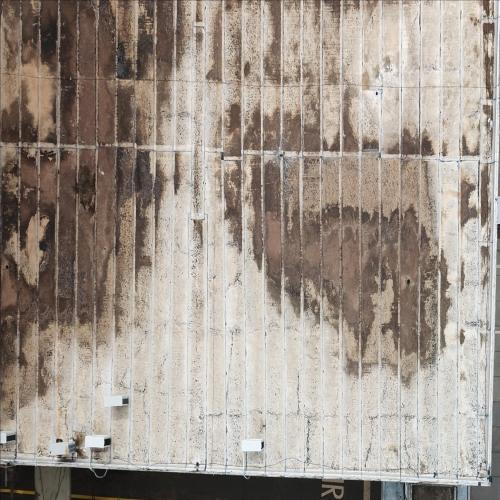conde: (103, 394, 132, 413), (84, 435, 115, 452), (49, 440, 78, 458), (240, 437, 268, 455), (1, 430, 18, 446)
